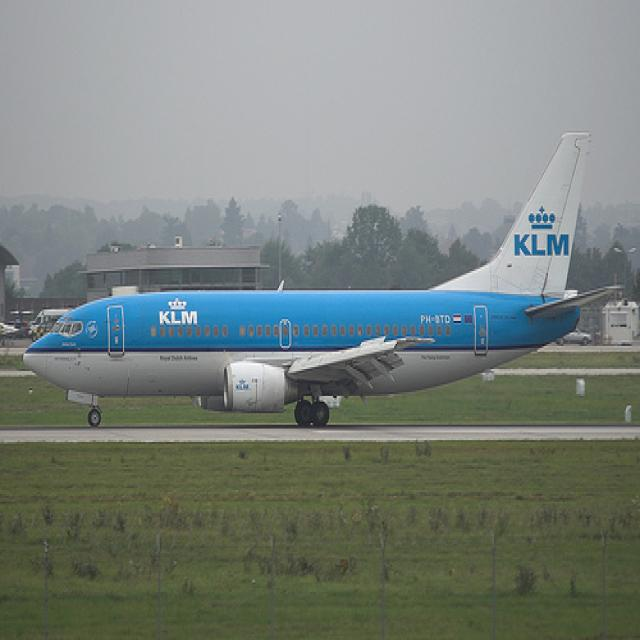aeroplane: (21, 130, 627, 428)
car: (553, 326, 595, 347)
